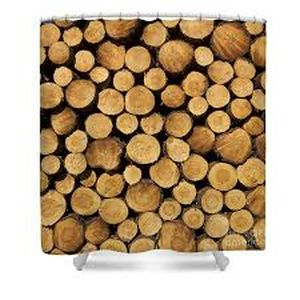log: (213, 123, 252, 164), (211, 22, 251, 61), (85, 136, 125, 172), (158, 39, 194, 74), (126, 132, 161, 167), (158, 222, 197, 253), (53, 216, 86, 252), (126, 181, 161, 210), (95, 40, 126, 72), (64, 77, 96, 108), (71, 185, 101, 218), (41, 190, 67, 227), (236, 158, 266, 190), (149, 158, 181, 188), (208, 161, 238, 192), (125, 85, 155, 115), (84, 113, 113, 143), (124, 43, 152, 73), (165, 109, 193, 139), (140, 20, 169, 48), (99, 198, 128, 226), (189, 125, 216, 155), (182, 151, 209, 181), (164, 134, 190, 165), (96, 87, 125, 114), (206, 58, 233, 86), (181, 71, 208, 98), (49, 110, 77, 136), (97, 171, 125, 197), (137, 209, 162, 238), (205, 109, 232, 135), (71, 48, 96, 76), (180, 18, 215, 38), (105, 19, 140, 39), (39, 81, 63, 110), (83, 19, 108, 46), (159, 83, 186, 108), (229, 208, 256, 233), (206, 83, 232, 108), (85, 220, 112, 244), (63, 151, 88, 176), (204, 214, 229, 239), (172, 181, 198, 205), (181, 206, 205, 232), (115, 111, 139, 136), (139, 112, 163, 137), (115, 218, 139, 243), (233, 58, 260, 80), (229, 96, 253, 120), (219, 233, 249, 252), (47, 42, 70, 66), (229, 76, 254, 98), (144, 68, 167, 91), (65, 130, 88, 153), (160, 198, 182, 222), (40, 21, 61, 46), (202, 188, 223, 213), (224, 189, 247, 211), (187, 95, 209, 117), (113, 70, 135, 92), (243, 116, 266, 136), (50, 65, 73, 85), (41, 153, 61, 176), (40, 129, 57, 155), (63, 26, 83, 48), (122, 164, 142, 186), (52, 175, 75, 194), (250, 88, 268, 112), (194, 45, 214, 66), (89, 68, 112, 85)
